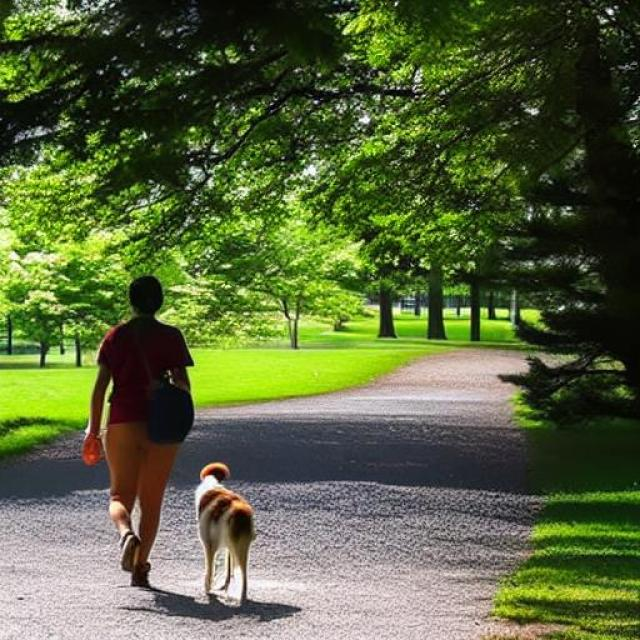Unleashed_Dog: (102, 424, 255, 606)
